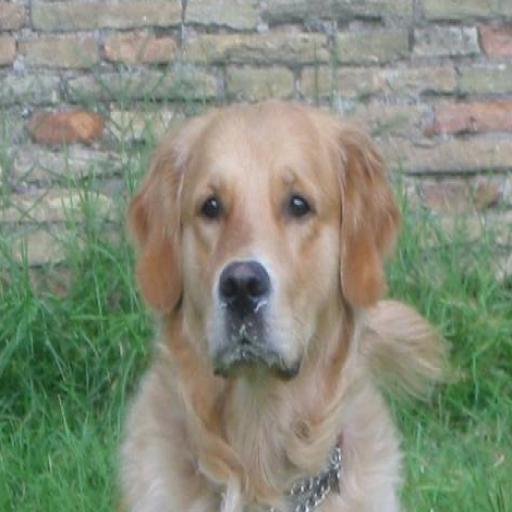dog_face: (137, 108, 384, 387)
